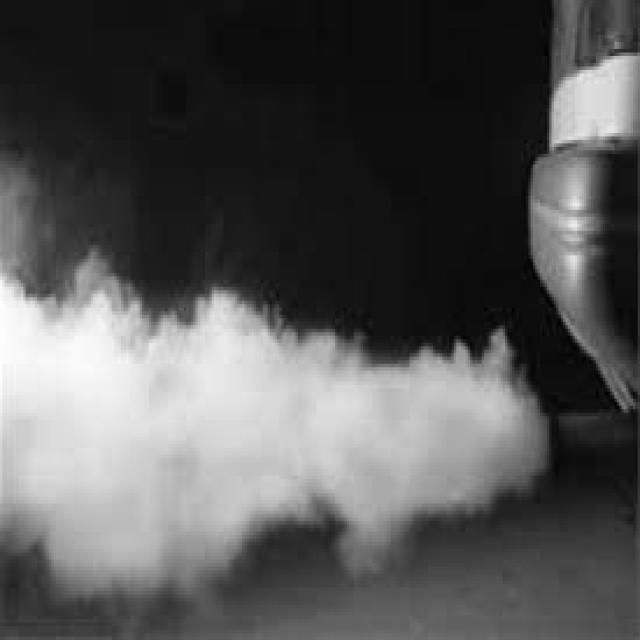Smoke: (3, 162, 553, 619)
